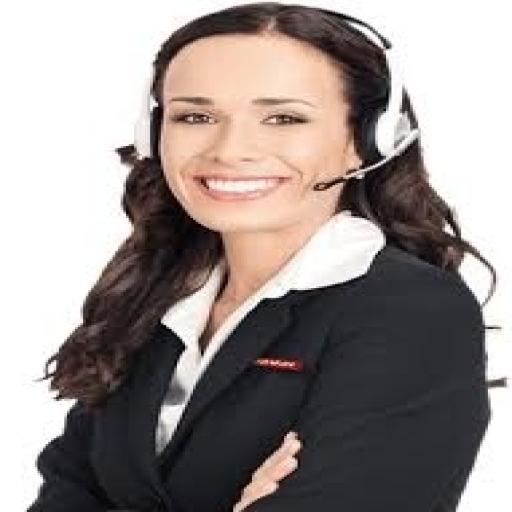calling: (8, 0, 499, 510)
